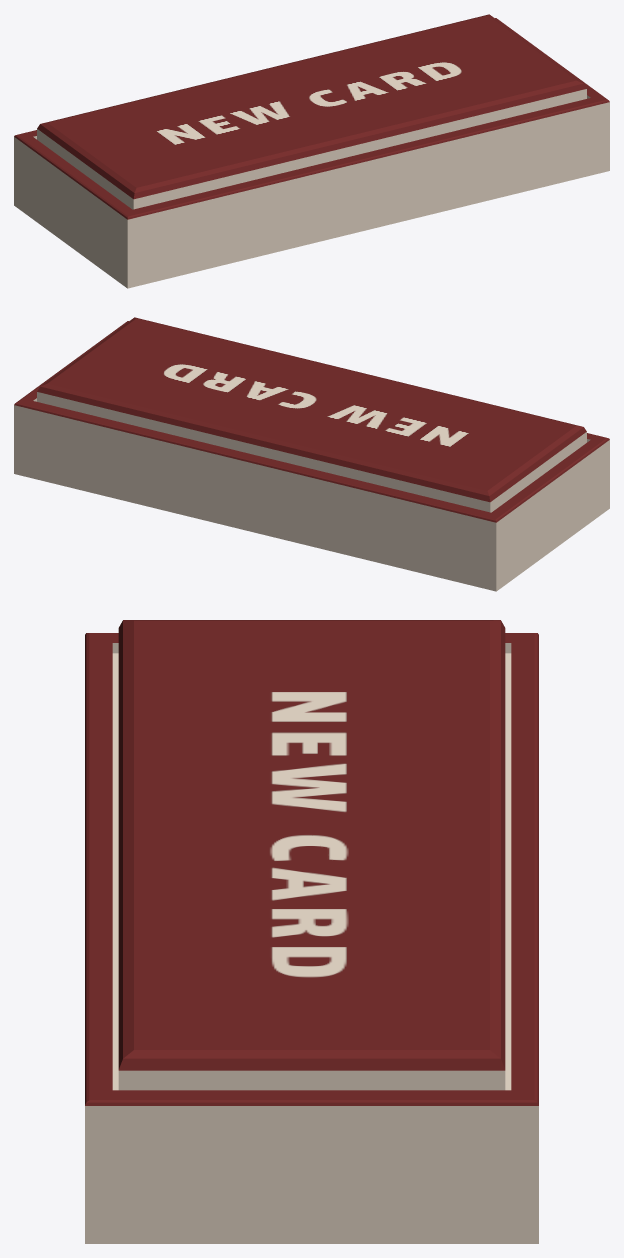
The model's file is new-card-button.glb.
3 renders of one model, top to bottom at view 1: azimuth 30°, elevation 25°; view 2: azimuth 150°, elevation 25°; view 3: azimuth 270°, elevation 25°, orthographic. The views are drawn at different scales.
Parts seen in each view (by area): view 1: new-card-button-cap, new-card-button; view 2: new-card-button-cap, new-card-button; view 3: new-card-button-cap, new-card-button.
Boxes of the visible parts, x1=… form: new-card-button-cap: x1=37, y1=14, x2=586, y2=209; new-card-button: x1=14, y1=18, x2=609, y2=288; new-card-button-cap: x1=37, y1=317, x2=586, y2=512; new-card-button: x1=14, y1=321, x2=609, y2=591; new-card-button-cap: x1=118, y1=620, x2=505, y2=1090; new-card-button: x1=85, y1=633, x2=538, y2=1243.
Bounding box in the file's own units: 0.2284 × 0.0392 × 0.0931.
1 material, 1 textured.
